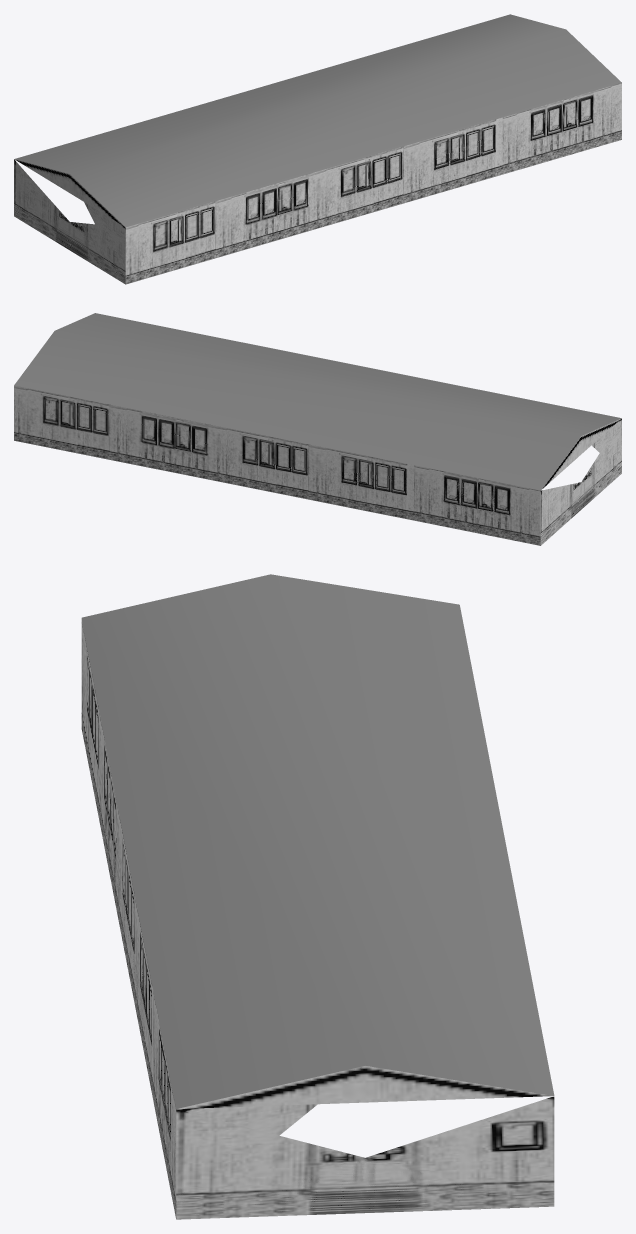
The model's file is Verwaltungsgebaeude_2.gltf.
3 views of the same model, one above another, from view 1: azimuth 30°, elevation 25°; view 2: azimuth 150°, elevation 25°; view 3: azimuth 270°, elevation 25° (orthographic). The views are drawn at different scales.
Parts seen in each view (by area): view 1: Dach.1; view 2: Dach.1; view 3: Dach.1.
Boxes of the visible parts, left/top/right/bottom form: Dach.1: left=14, top=14, right=621, bottom=284; Dach.1: left=14, top=313, right=621, bottom=545; Dach.1: left=81, top=574, right=554, bottom=1219.
Size of the model in its own units: 44 by 6.02 by 17.45.
Materials: 4 (3 with a texture image).
